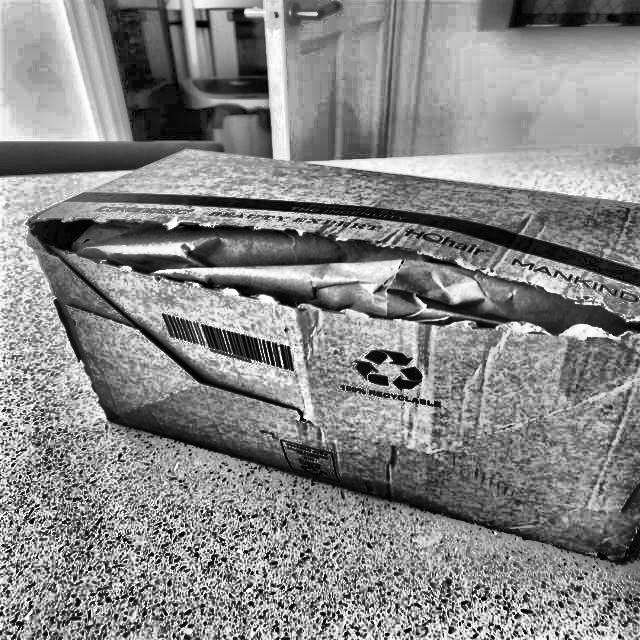box: (23, 143, 639, 566)
hole: (30, 211, 640, 344)
